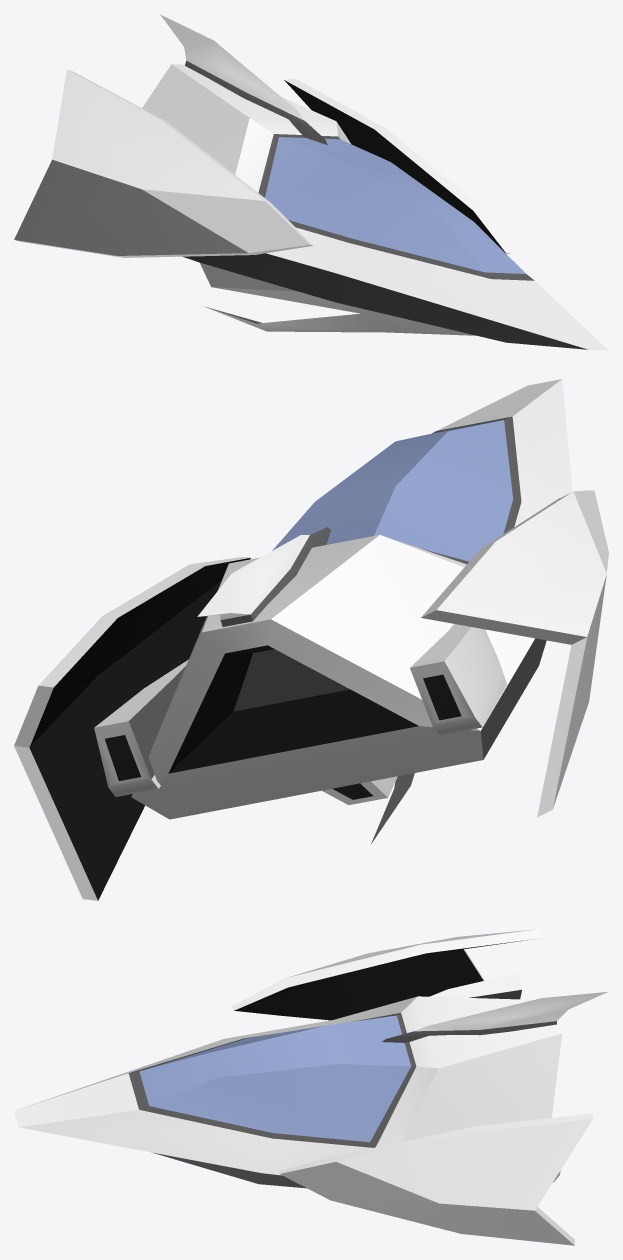
The model's file is nave_orbt.glb.
3 renders of one model, top to bottom at view 1: azimuth 30°, elevation 25°; view 2: azimuth 150°, elevation 25°; view 3: azimuth 270°, elevation 25°, orthographic. The views are drawn at different scales.
Visible parts, largest first — view 1: Cube; view 2: Cube; view 3: Cube.
Boxes of the visible parts, x1,y1,x2,y2 form: Cube: (14, 14, 608, 350); Cube: (14, 379, 608, 900); Cube: (14, 929, 608, 1245).
Size of the model in its own units: 62.95 by 39.62 by 98.29.
